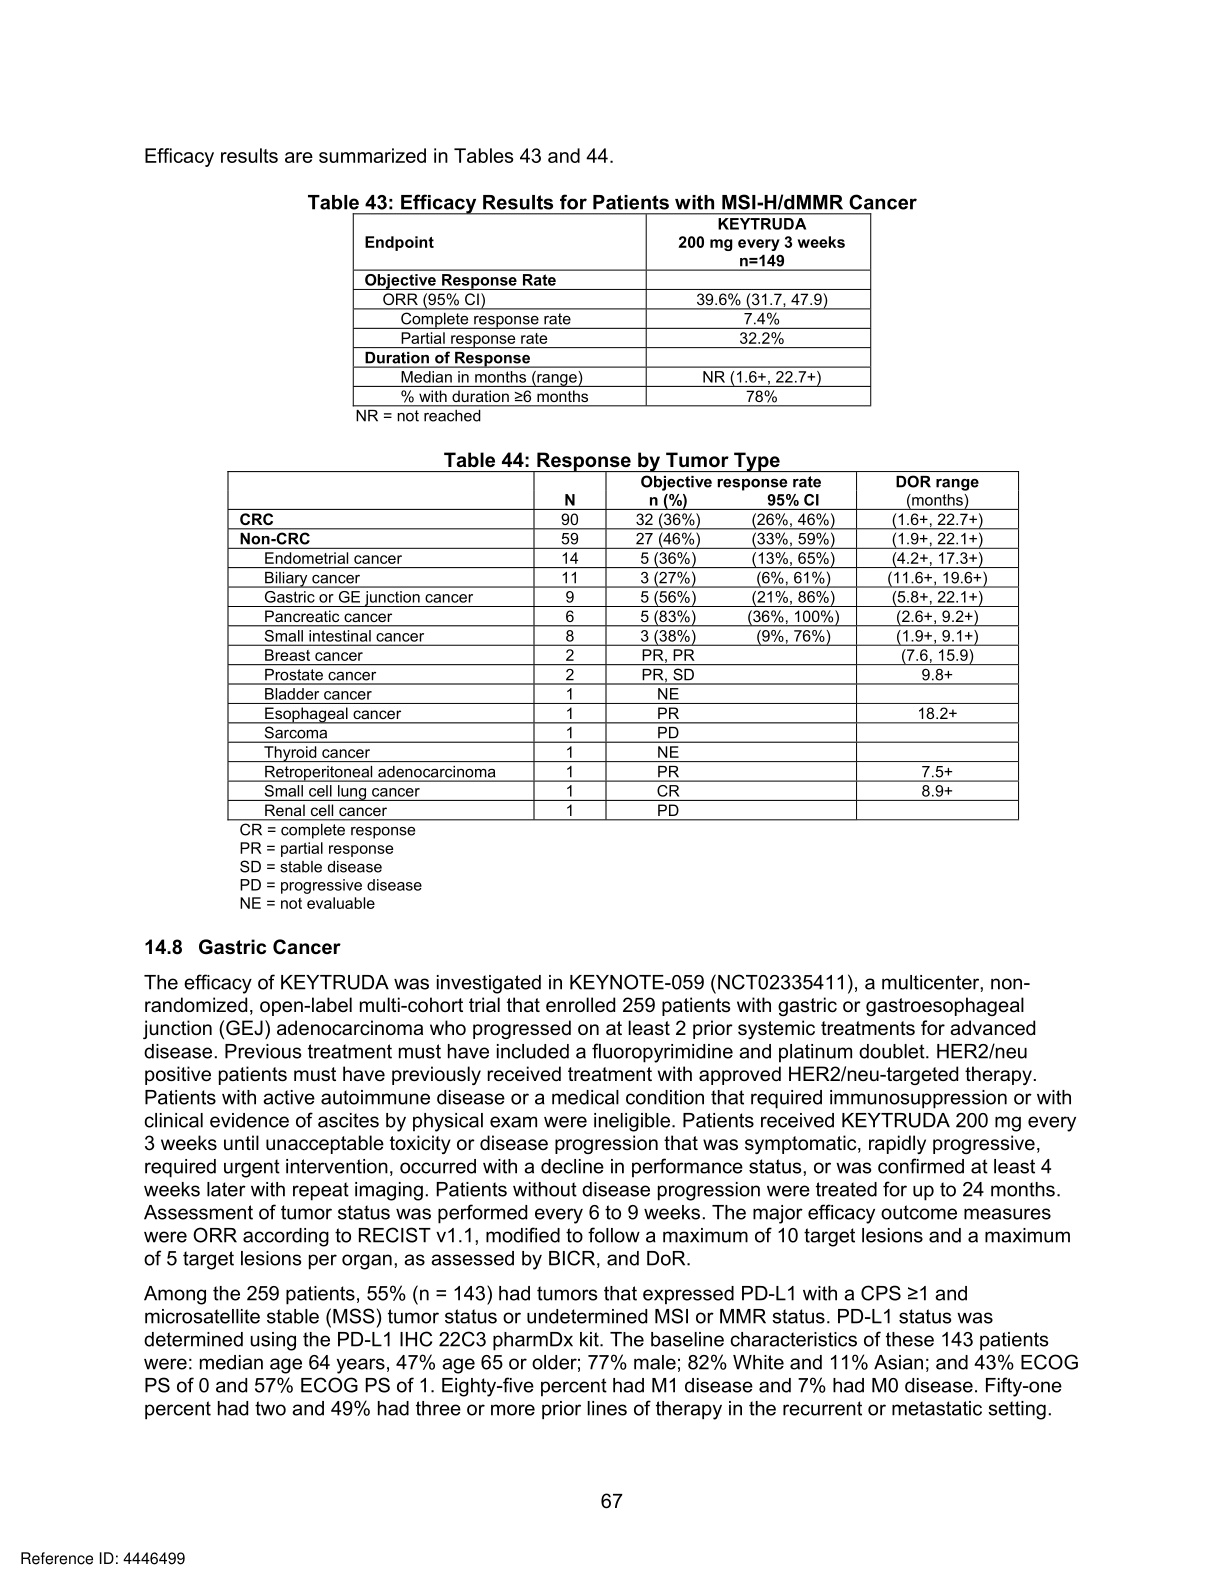full_lined: (224, 471, 1020, 823), (350, 212, 872, 408)
